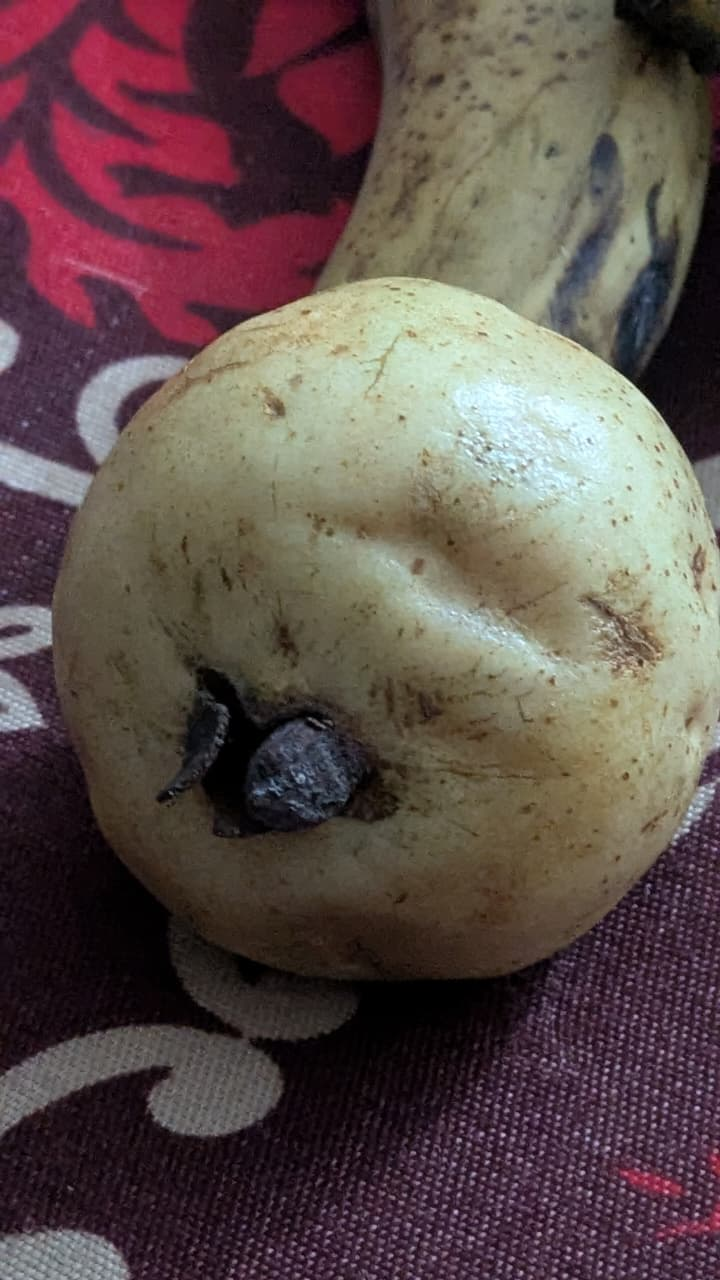guava: (80, 110, 688, 1005)
